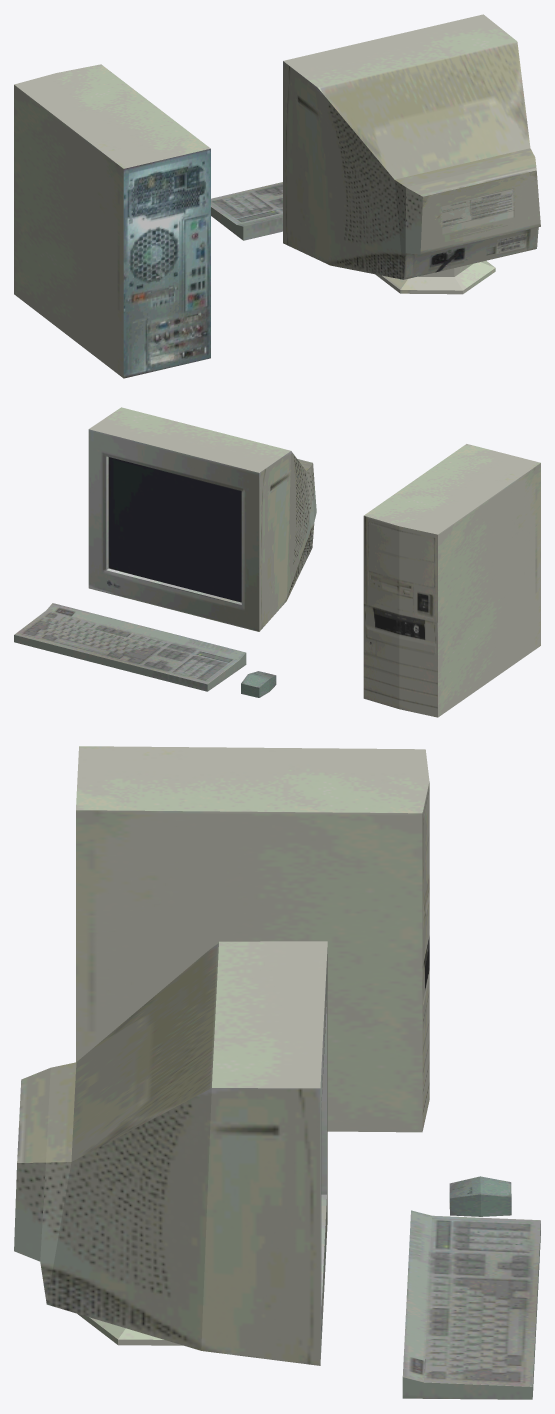
Rendered from computer_03.fbx.
3 renders of one model, top to bottom at view 1: azimuth 30°, elevation 25°; view 2: azimuth 150°, elevation 25°; view 3: azimuth 270°, elevation 25°, orthographic. The views are drawn at different scales.
Visible parts, largest first — view 1: computer_monitor2, computer_tower2, computer_keyboard2; view 2: computer_tower2, computer_monitor2, computer_keyboard2, computer_mouse2; view 3: computer_monitor2, computer_tower2, computer_keyboard2, computer_mouse2.
Part boxes in pixels (bbox=[...]): computer_monitor2: bbox=[283, 14, 540, 294]; computer_tower2: bbox=[14, 64, 210, 378]; computer_keyboard2: bbox=[211, 182, 282, 240]; computer_tower2: bbox=[363, 444, 540, 717]; computer_monitor2: bbox=[88, 407, 316, 631]; computer_keyboard2: bbox=[14, 603, 246, 691]; computer_mouse2: bbox=[241, 671, 276, 697]; computer_monitor2: bbox=[14, 941, 327, 1365]; computer_tower2: bbox=[76, 746, 429, 1132]; computer_keyboard2: bbox=[402, 1210, 540, 1399]; computer_mouse2: bbox=[449, 1176, 511, 1216].
Size of the model in its own units: 138 by 60.98 by 91.17.
